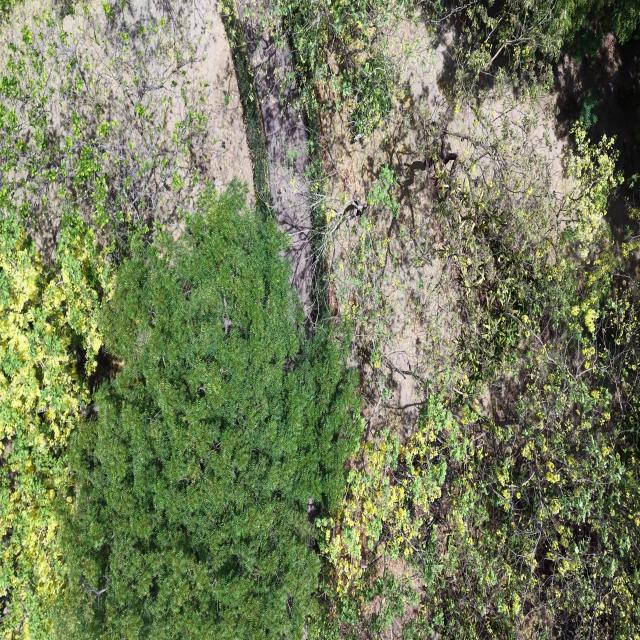DRY_AREA: (317, 24, 566, 439), (321, 23, 566, 442), (321, 22, 566, 431), (320, 22, 565, 428), (0, 0, 255, 230), (61, 0, 256, 237), (131, 0, 255, 204), (555, 33, 639, 175)
PATHWAYS: (237, 0, 312, 317)
VEGETATION_TREE: (0, 0, 639, 639), (312, 101, 639, 638), (314, 116, 639, 638), (64, 184, 360, 638), (0, 4, 206, 637), (0, 3, 203, 638), (260, 0, 639, 141), (0, 3, 207, 254), (0, 210, 110, 639), (421, 0, 639, 93), (271, 0, 410, 139), (561, 0, 639, 52)
